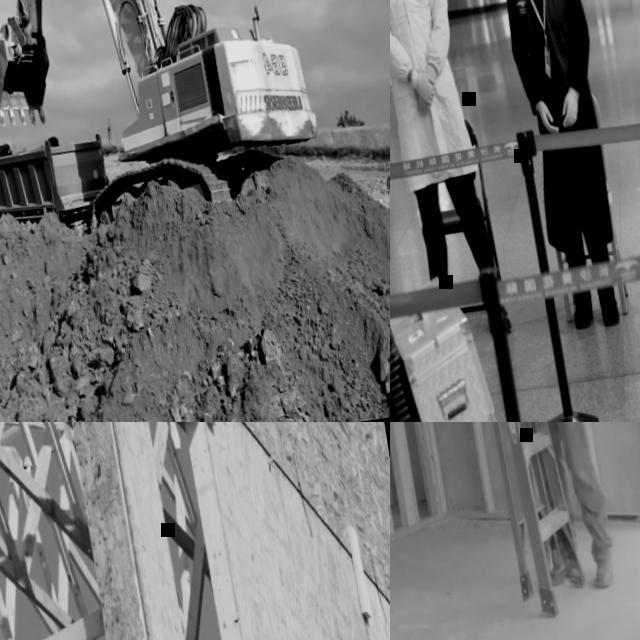machinery: (0, 0, 330, 241), (0, 115, 117, 250)
no_vest: (390, 0, 461, 142), (502, 0, 587, 88)
person: (484, 0, 638, 334), (390, 0, 513, 338), (468, 422, 617, 594)
